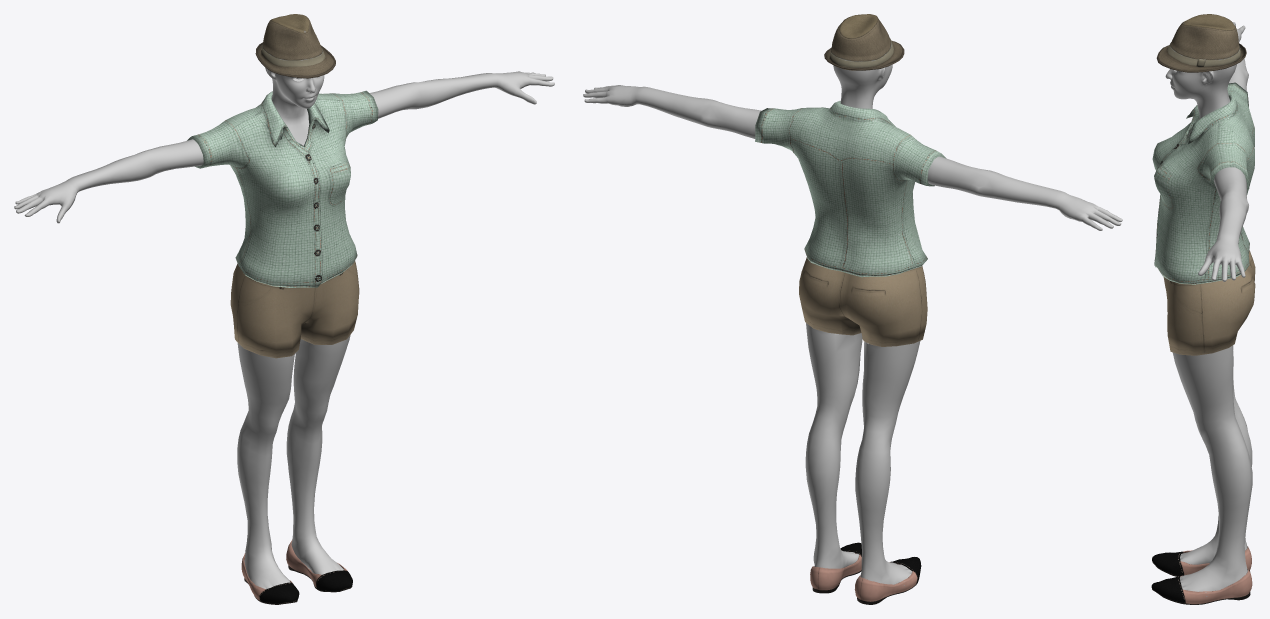
3 renders of one model, left to right at view 1: azimuth 30°, elevation 25°; view 2: azimuth 150°, elevation 25°; view 3: azimuth 270°, elevation 25°, orthographic.
Visible parts, largest first — view 1: Body, Tops, Bottoms, Hats, Shoes; view 2: Body, Tops, Bottoms, Hats, Shoes; view 3: Body, Tops, Bottoms, Hats, Shoes.
Part boxes in pixels (x1,y1,x2,y2): Body: (14,68,554,589); Tops: (187,90,378,287); Bottoms: (230,261,359,358); Hats: (255,14,335,78); Shoes: (241,540,352,604); Body: (583,64,1122,585); Tops: (755,101,946,277); Bottoms: (799,257,927,346); Hats: (824,14,904,70); Shoes: (810,542,921,604); Body: (1165,22,1252,596); Tops: (1152,82,1254,284); Bottoms: (1163,250,1255,355); Hats: (1156,14,1246,72); Shoes: (1151,546,1252,604).
Size of the model in its own units: 179 by 180 by 30.08.
